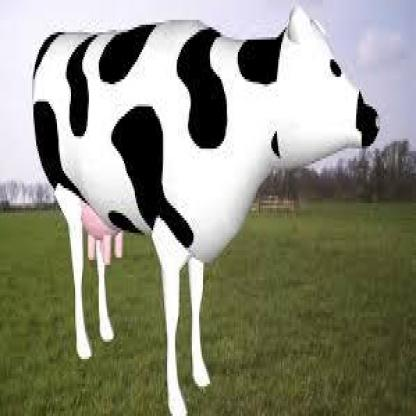cow: (31, 5, 381, 416)
